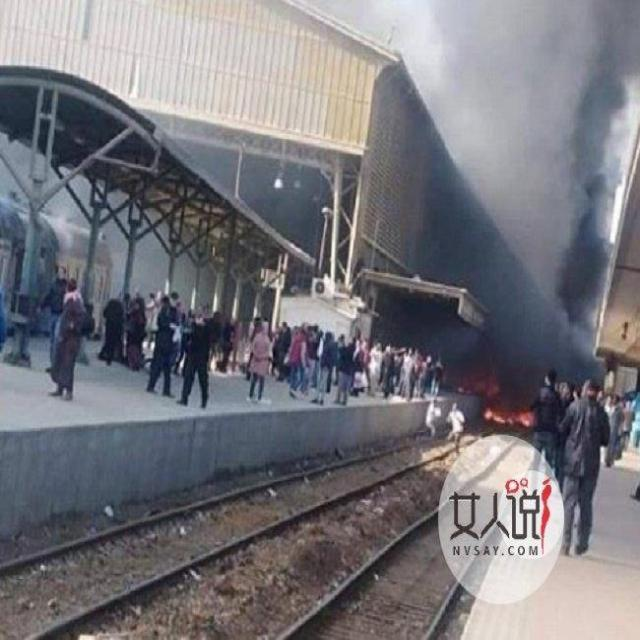Fire: (482, 406, 534, 426)
Smoke: (376, 2, 640, 410)
